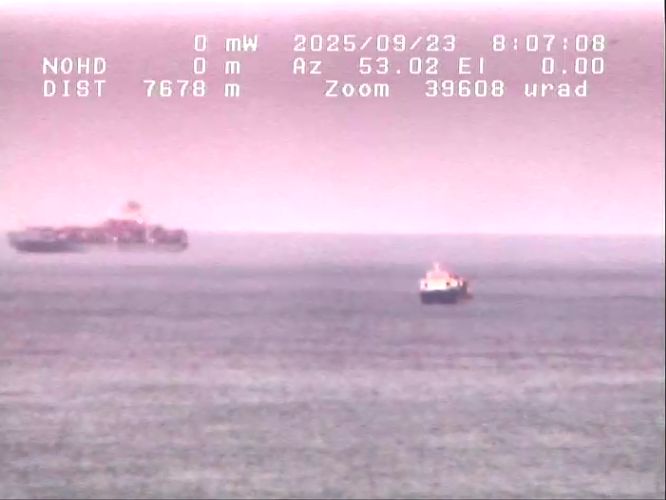CARGO_SHIPS: (5, 195, 205, 272)
TANKER: (408, 252, 476, 306)
